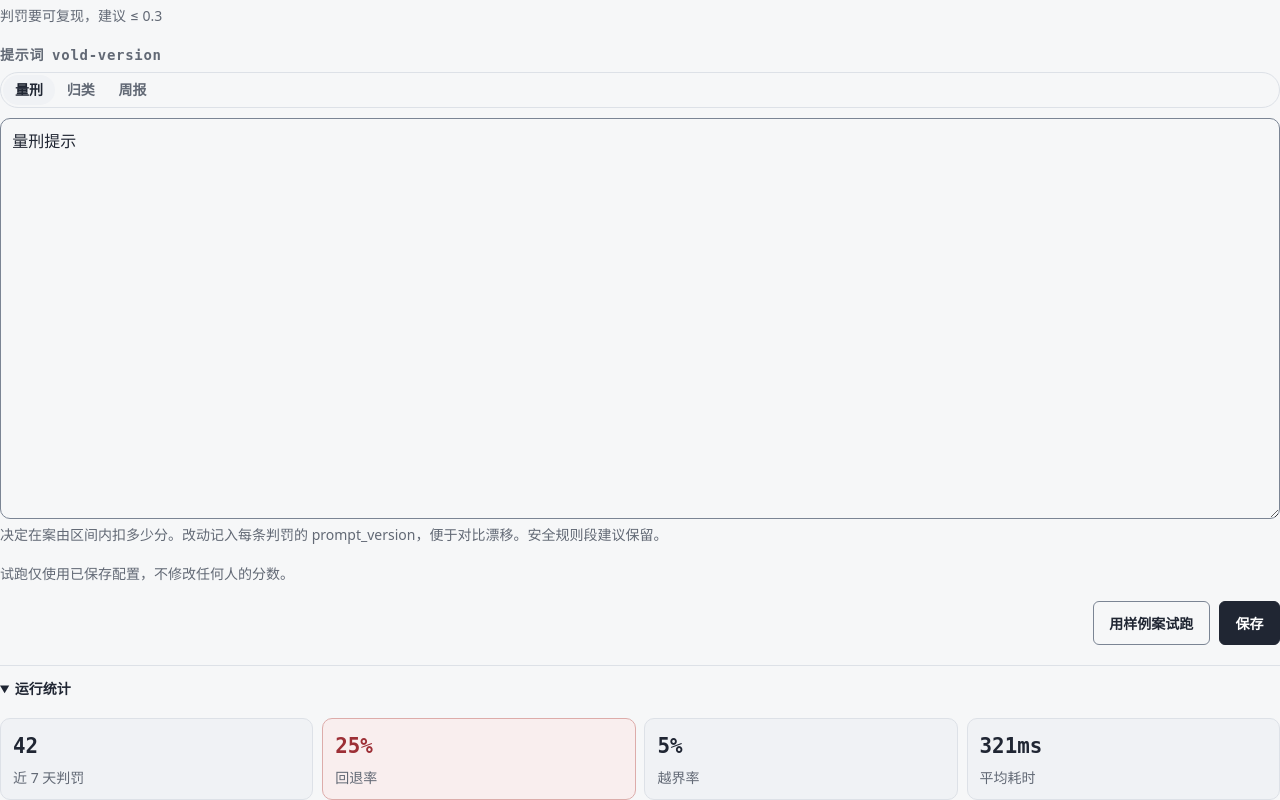
Test case: AI settings and legacy administration entry › conceals the old form when 用样例案试跑 discovers lost permission
(page scrolled)
What coordinates should you click on to do the following:
click the button "用样例案试跑"
I would click on:
 (1151, 623)
Its box is [1093, 601, 1210, 645].
(page scrolled)
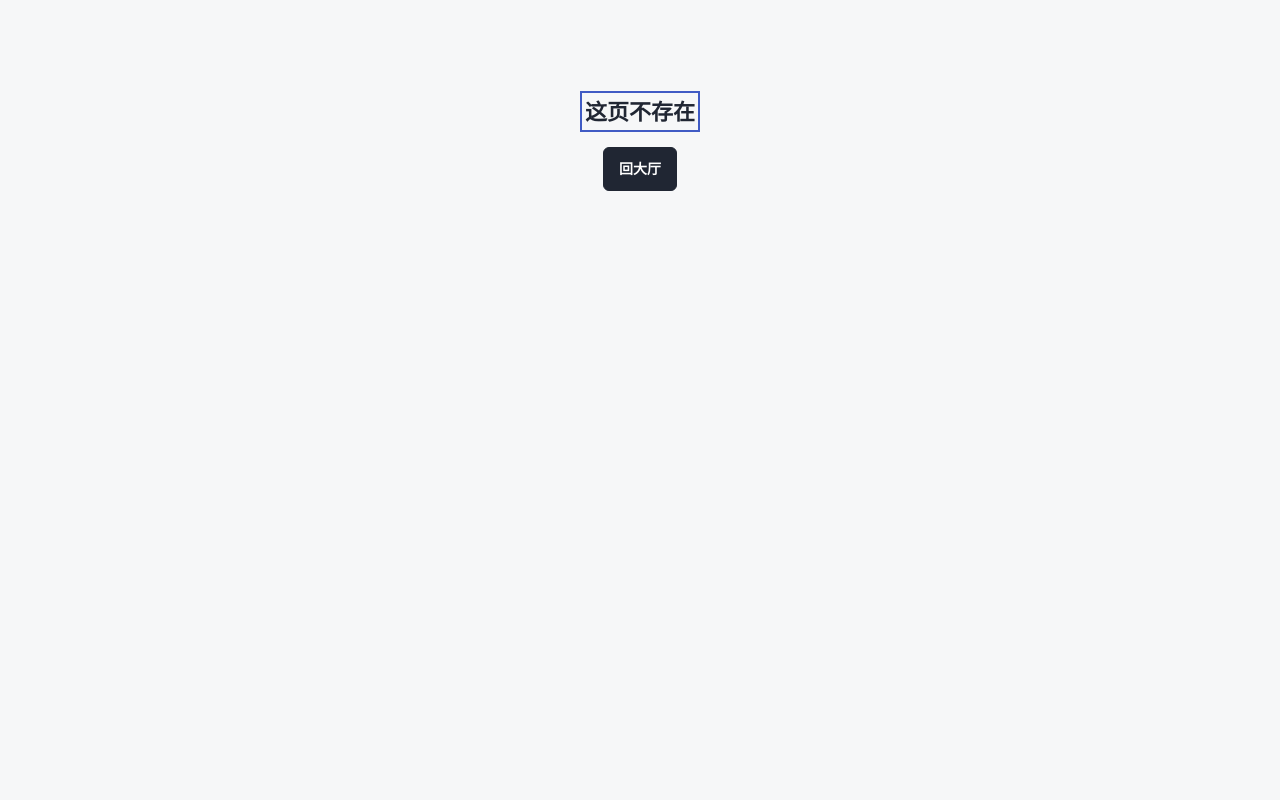
expect the heading "这页不存在" is shown: met, box [585, 96, 695, 127]
